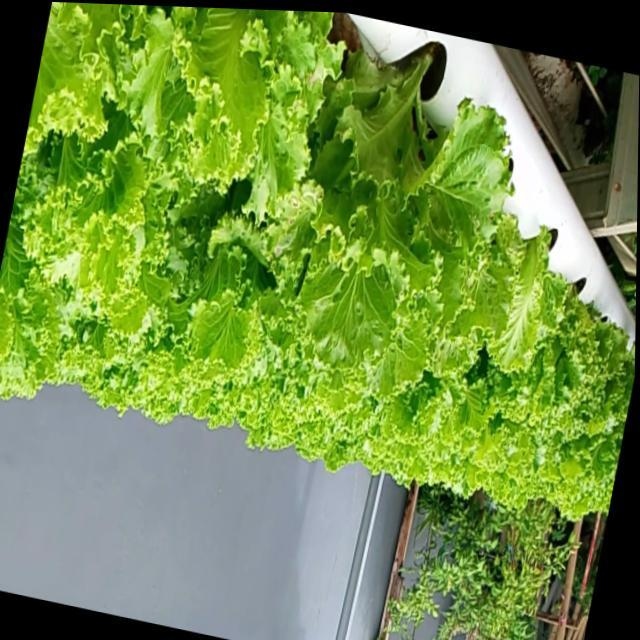Mature: (0, 2, 635, 517), (276, 29, 504, 377), (498, 253, 621, 427)
